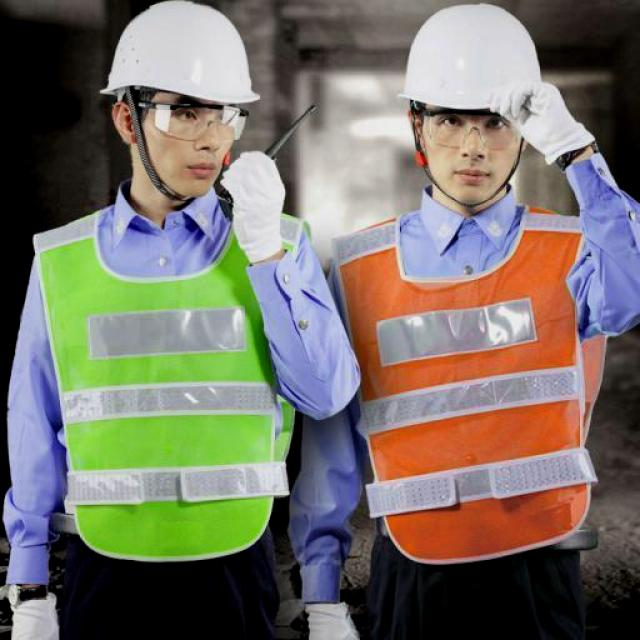face_nomask: (429, 108, 522, 192), (160, 104, 246, 184)
glasses: (415, 100, 536, 158), (144, 95, 255, 149)
hand_glove: (483, 80, 593, 156), (224, 150, 285, 248)
head_helmet: (96, 0, 262, 108), (392, 3, 540, 118)
person: (0, 1, 366, 640), (291, 2, 637, 640)
vest: (331, 210, 608, 560), (33, 211, 302, 560)
